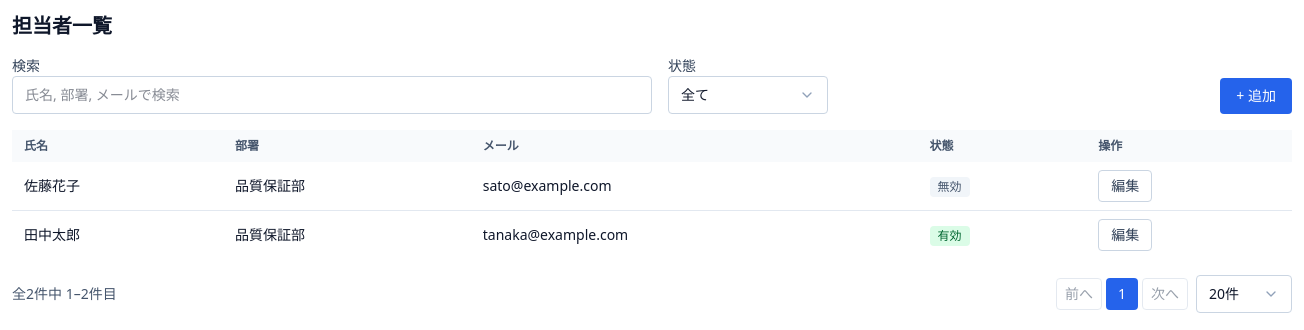
Test case: PersonList › 状態セレクトで有効/無効の絞り込みができ、「全て」で解除できる
The width and height of the screenshot is (1304, 330).
Click the dropdown named "状態".
click(748, 95)  # box [668,76,828,114]
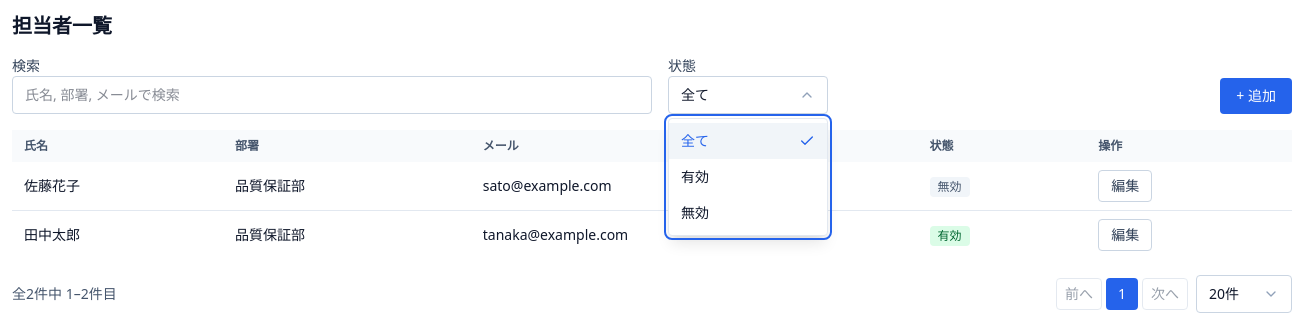
Click the option "無効".
click(748, 213)  # box [669,195,827,231]
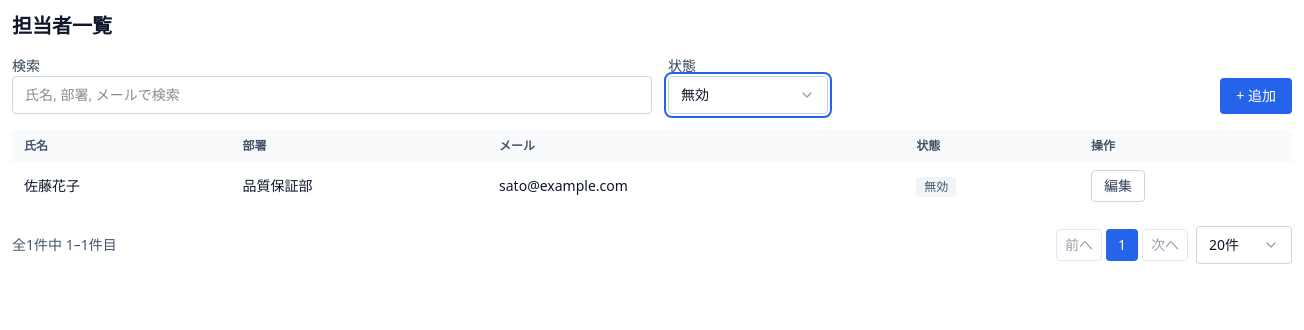
Check: the text "佐藤花子" is shown, box [24,176,80,195]
Check: the text "田中太郎" is gone
Click the dropdown named "状態".
click(748, 95)  # box [668,76,828,114]
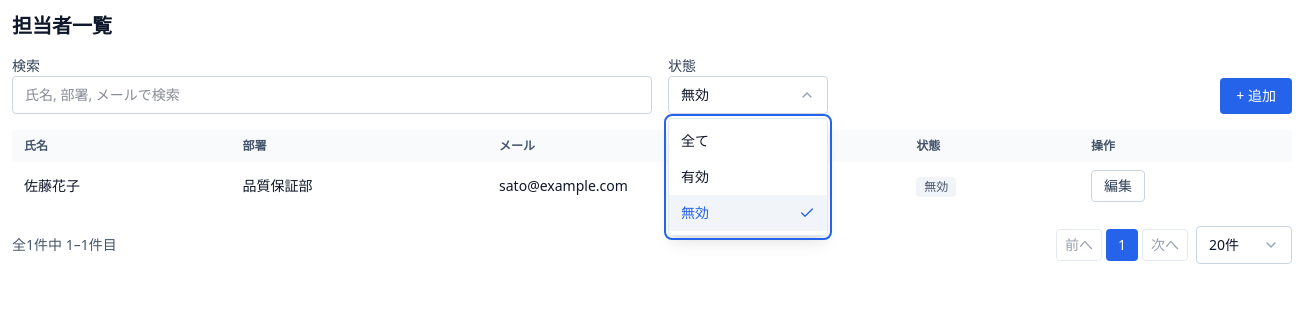
Click the option "有効".
click(748, 177)  # box [669,159,827,195]
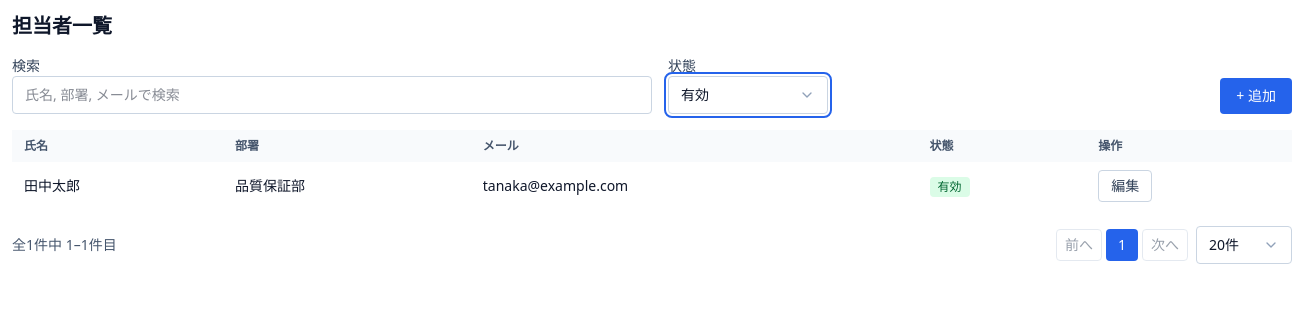
Check: the text "田中太郎" is shown, box [24,176,80,195]
Check: the text "佐藤花子" is gone
Click the dropdown named "状態".
click(748, 95)  # box [668,76,828,114]
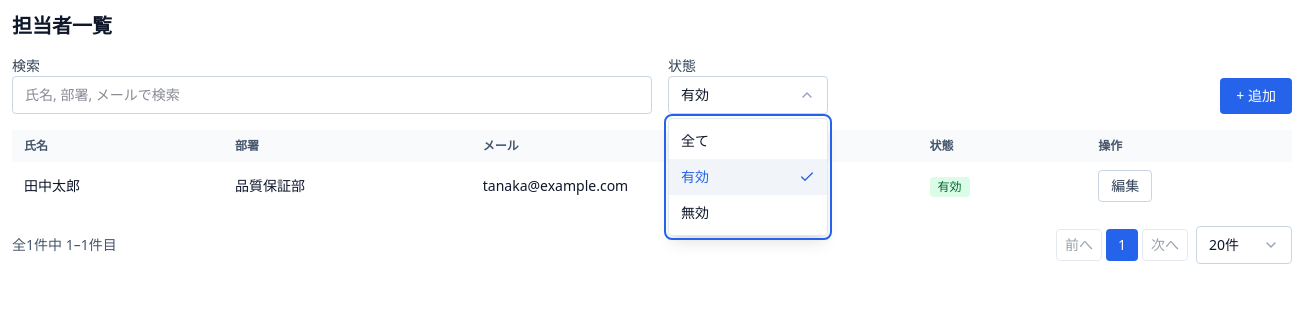
Click the option "全て".
click(748, 141)  # box [669,123,827,159]
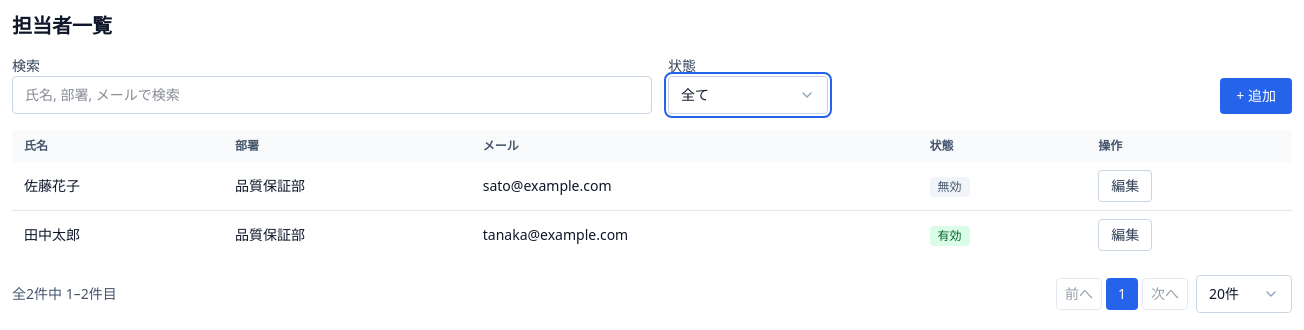
Check: the text "田中太郎" is shown, box [24,225,80,244]
Check: the text "佐藤花子" is shown, box [24,176,80,195]
